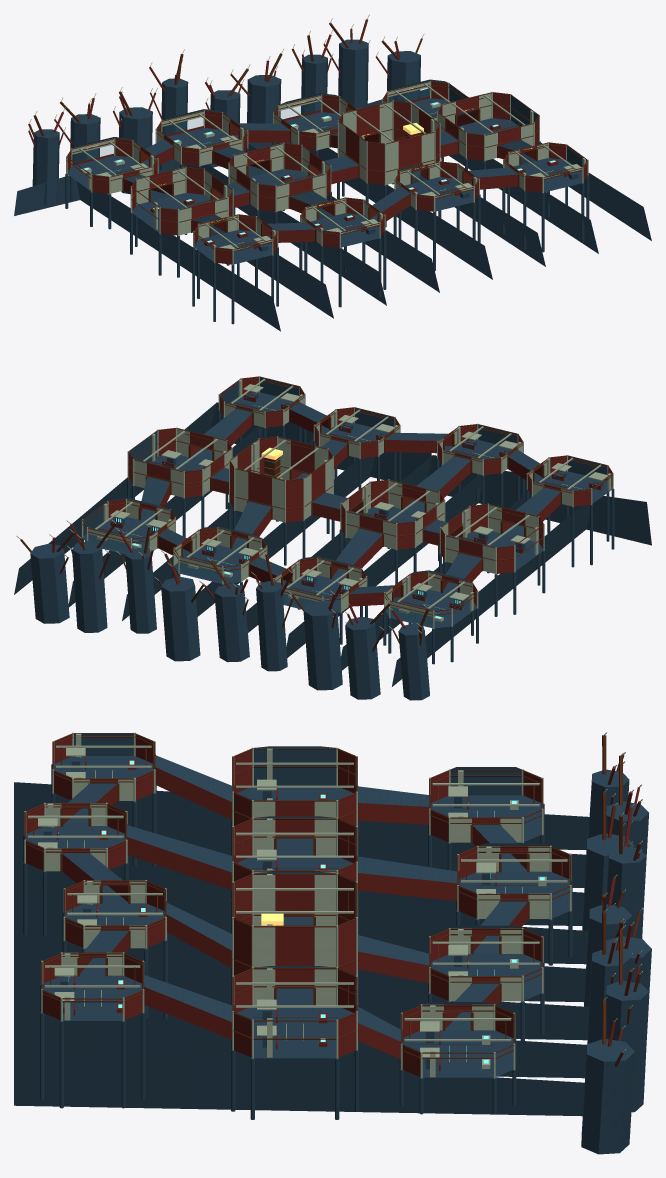
Rendered from abyssal-pressureworks.glb.
3 views of the same model, one above another, from view 1: azimuth 30°, elevation 25°; view 2: azimuth 150°, elevation 25°; view 3: azimuth 270°, elevation 25° (orthographic). The views are drawn at different scales.
Parts seen in each view (by area): view 1: batch-navy, batch-coral, batch-ivory, batch-copper, batch-glass; view 2: batch-navy, batch-ivory, batch-coral, batch-copper, batch-glass; view 3: batch-navy, batch-coral, batch-ivory, batch-copper.
Part boxes in pixels (<box>): batch-navy: <box>14,39,651,331</box>; batch-coral: <box>28,19,587,264</box>; batch-ivory: <box>29,14,588,264</box>; batch-copper: <box>28,23,587,251</box>; batch-glass: <box>73,88,429,162</box>; batch-navy: <box>14,377,651,700</box>; batch-ivory: <box>16,376,613,633</box>; batch-coral: <box>52,376,612,651</box>; batch-copper: <box>20,376,612,642</box>; batch-glass: <box>88,534,431,625</box>; batch-navy: <box>14,733,651,1154</box>; batch-coral: <box>26,733,640,1076</box>; batch-ivory: <box>24,732,642,1078</box>; batch-copper: <box>24,733,641,1066</box>.
Bounding box in the file's own units: 267 × 70.63 × 227.
7 materials, 4 textured.
